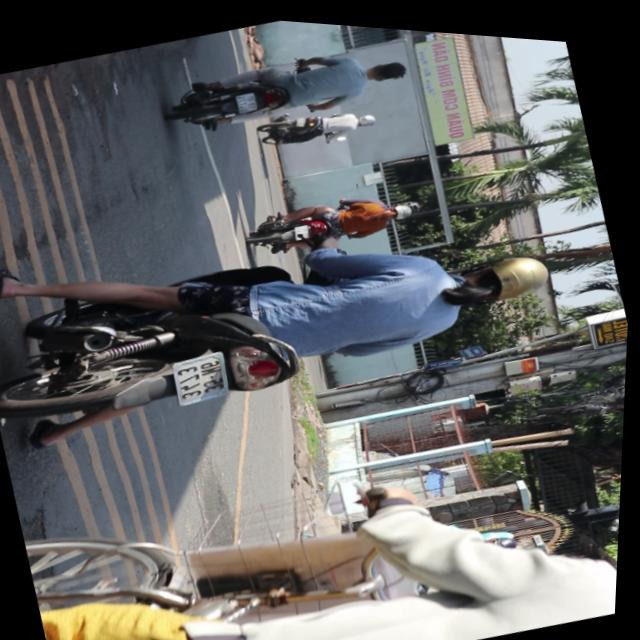helmet: (450, 235, 559, 311)
licenseplate: (0, 146, 575, 483), (160, 19, 416, 153)
motorcyclist: (365, 49, 410, 81)
nohelmet: (176, 348, 235, 406), (235, 87, 259, 111)
